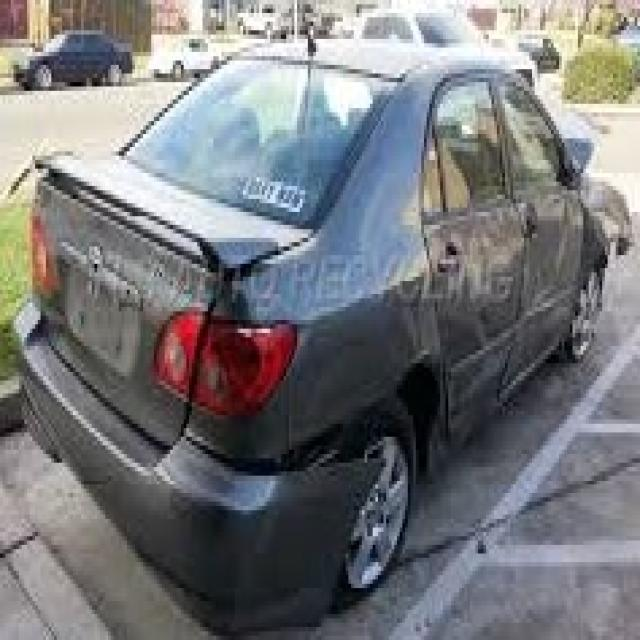minor: (178, 410, 512, 502)
